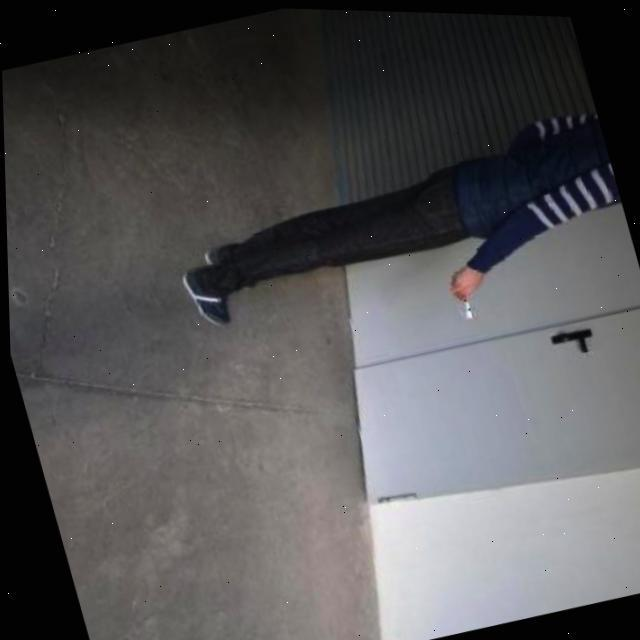knife: (452, 288, 469, 316)
